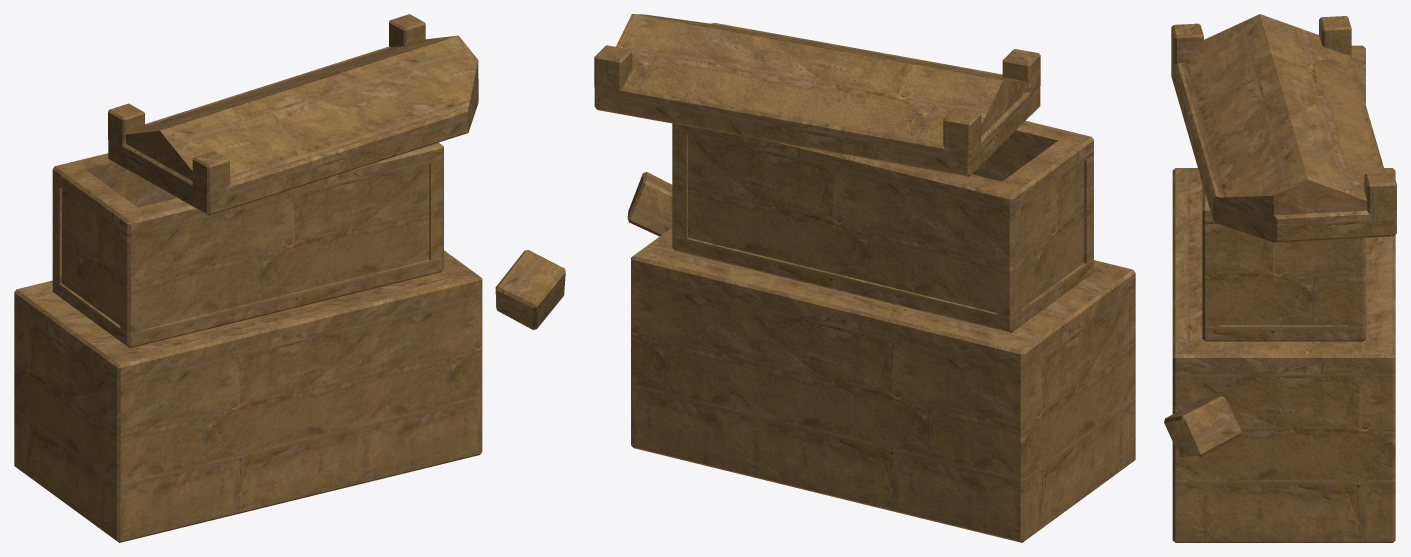
The model's file is sarcophagus.glb.
3 renders of one model, left to right at view 1: azimuth 30°, elevation 25°; view 2: azimuth 150°, elevation 25°; view 3: azimuth 270°, elevation 25°, orthographic. The views are drawn at different scales.
Visible parts, largest first — view 1: sarcophagus; view 2: sarcophagus; view 3: sarcophagus.
Boxes of the visible parts, <box> form: sarcophagus: <box>14,14,565,542</box>; sarcophagus: <box>594,14,1135,542</box>; sarcophagus: <box>1164,14,1396,542</box>.
Size of the model in its own units: 3.76 by 2.85 by 1.57.
Materials: 1 (1 with a texture image).
